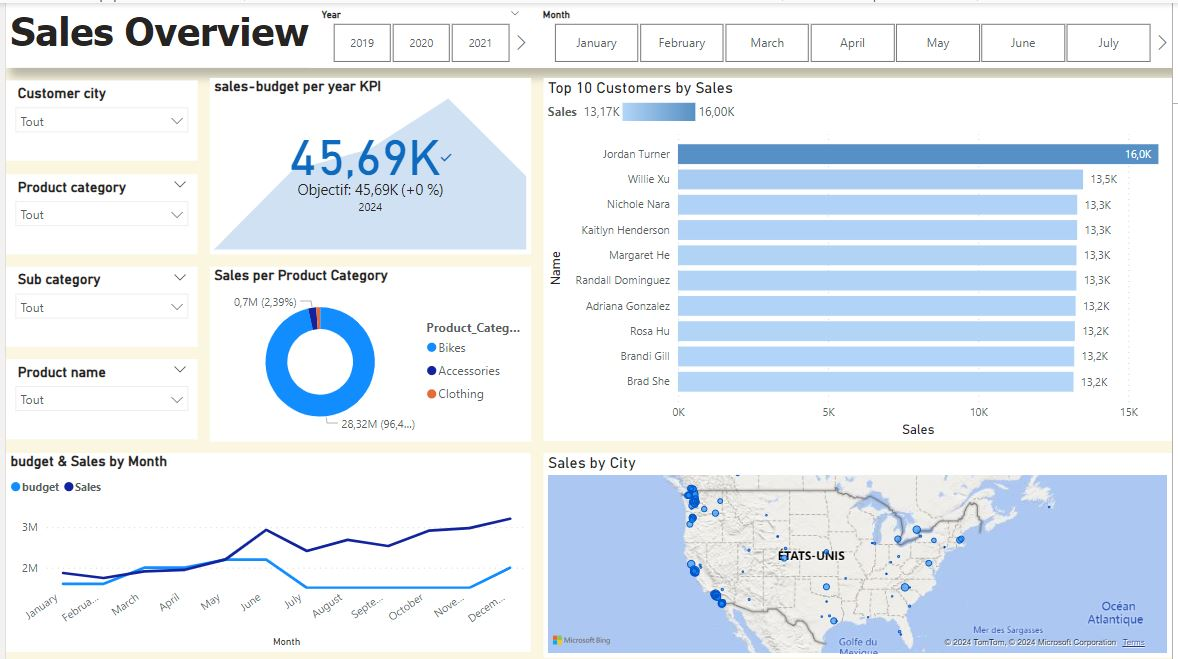

The page's visual inventory and layout, read from the dashboard file:
{"tool":"powerbi","page":{"name":"Sales overview","canvas":[1280,720],"ordinal":0},"visuals":[{"type":"textbox","box":[0,0,1280.3,71.5],"z":0},{"type":"slicer","fields":{"Values":["customer&geography.Customer city"]},"box":[0,85.5,210.3,88.3],"z":1000},{"type":"slicer","fields":{"Values":["Productinfos.Sub_category"]},"box":[0,288.9,210.3,88.3],"z":2000},{"type":"slicer","fields":{"Values":["Productinfos.Product_Category"]},"box":[0,187.9,210.3,88.3],"z":3000},{"type":"slicer","fields":{"Values":["Productinfos.Product_name"]},"box":[0,391.2,210.3,88.3],"z":4000},{"type":"slicer","fields":{"Values":["dimdatedata.Year"]},"box":[333.4,1.4,242.9,70],"z":5000},{"type":"slicer","fields":{"Values":["dimdatedata.Monthh"]},"box":[576.3,1.4,703.9,70],"z":6000},{"type":"kpi","title":"sales-budget per year KPI","fields":{"TrendLine":["dimdatedata.Year"],"Goal":["key measures.Sales"],"Indicator":["key measures.sales-budget"]},"box":[223.7,82.3,352.7,193.5],"z":7000},{"type":"donutChart","title":"Sales per Product Category","fields":{"Category":["Productinfos.Product_Category"],"Y":["key measures.Sales_sum"]},"box":[223.6,288.9,352.8,191.7],"z":8000},{"type":"lineChart","title":"budget & Sales by Month","fields":{"Category":["dimdatedata.Monthh"],"Y":["key measures.budget_sum","key measures.Sales_sum"]},"box":[0,494.4,576.4,218.1],"z":9000},{"type":"barChart","title":"Top 10 Customers by Sales","fields":{"Y":["key measures.Sales_sum"],"Category":["customer&geography.Full_Name"]},"box":[590.3,81.9,690.3,398.6],"z":9001},{"type":"map","title":"Sales by City","fields":{"Category":["customer&geography.Customer city"],"Size":["key measures.Sales_sum"]},"box":[590.3,494.4,690.3,225],"z":9003}]}

Visuals, with their boxes in screenshot pixels (x1, y1, x2, y2), scaled from the page's 1280x720 canvas onto the 1178x659 screenshot:
textbox: (0, 0, 1177, 65)
slicer - customer&geography.Customer city: (0, 78, 194, 159)
slicer - Productinfos.Sub_category: (0, 264, 194, 345)
slicer - Productinfos.Product_Category: (0, 172, 194, 253)
slicer - Productinfos.Product_name: (0, 358, 194, 439)
slicer - dimdatedata.Year: (307, 1, 530, 65)
slicer - dimdatedata.Monthh: (530, 1, 1177, 65)
"sales-budget per year KPI" kpi: (206, 75, 530, 252)
"Sales per Product Category" donutChart: (206, 264, 530, 440)
"budget & Sales by Month" lineChart: (0, 453, 530, 652)
"Top 10 Customers by Sales" barChart: (543, 75, 1177, 440)
"Sales by City" map: (543, 453, 1177, 658)
